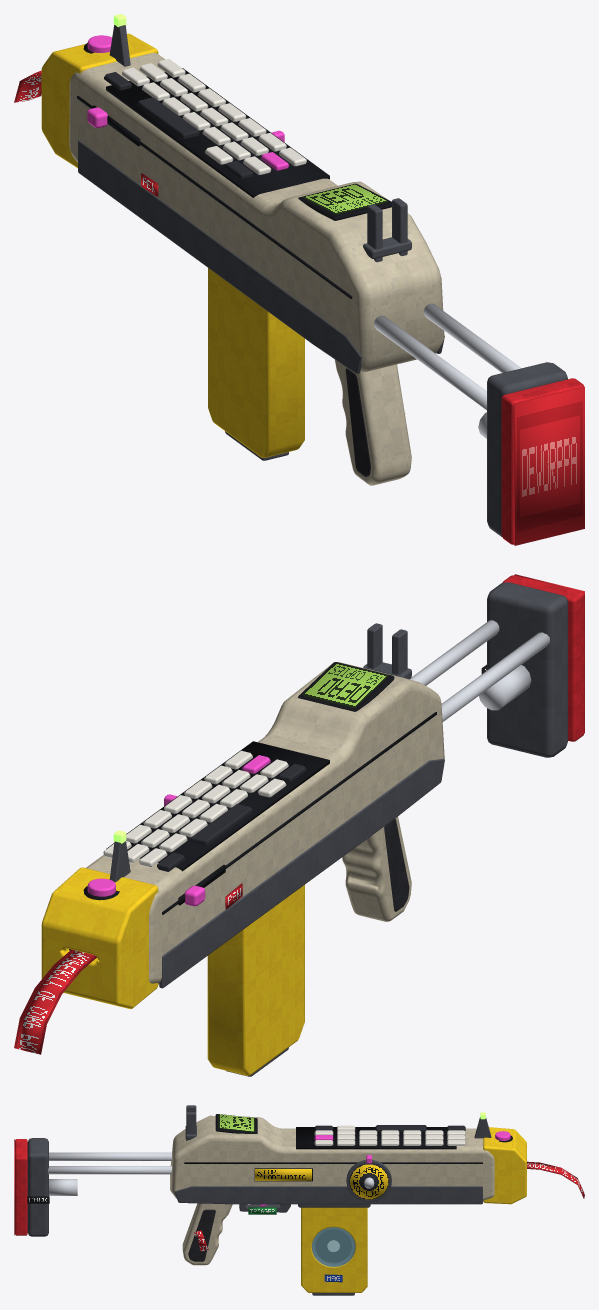
The model's file is w_smg_label.glb.
3 views of the same model, one above another, from view 1: azimuth 30°, elevation 25°; view 2: azimuth 150°, elevation 25°; view 3: azimuth 270°, elevation 25° (orthographic). The views are drawn at different scales.
Parts seen in each view (by area): view 1: labelmaker_wzA, labelmaker_wzB, labelmaker_wzN, mag_wzB; view 2: labelmaker_wzA, labelmaker_wzB, labelmaker_wzN, mag_wzB; view 3: labelmaker_wzA, labelmaker_wzB, labelmaker_wzN, mag_wzB, mag_wzN.
Boxes of the visible parts, bbox=[...] form: labelmaker_wzA: bbox=[69, 53, 584, 544]; labelmaker_wzB: bbox=[41, 25, 521, 438]; labelmaker_wzN: bbox=[14, 14, 584, 545]; mag_wzB: bbox=[208, 268, 304, 460]; labelmaker_wzA: bbox=[86, 575, 584, 984]; labelmaker_wzB: bbox=[41, 620, 549, 1009]; labelmaker_wzN: bbox=[14, 574, 584, 1054]; mag_wzB: bbox=[207, 885, 304, 1076]; labelmaker_wzA: bbox=[15, 1105, 494, 1265]; labelmaker_wzB: bbox=[48, 1114, 526, 1212]; labelmaker_wzN: bbox=[14, 1112, 584, 1251]; mag_wzB: bbox=[301, 1207, 367, 1295]; mag_wzN: bbox=[312, 1227, 355, 1282].
Size of the model in its own units: 0.101 by 0.284 by 0.8026.
Materials: 24 (16 with a texture image).
